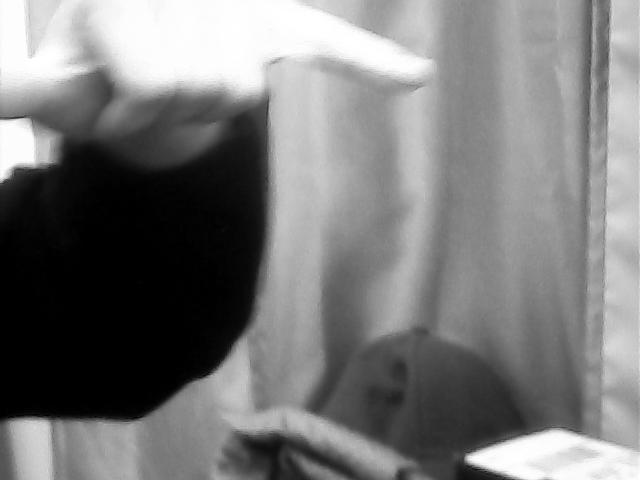aloha: (1, 1, 440, 165)
